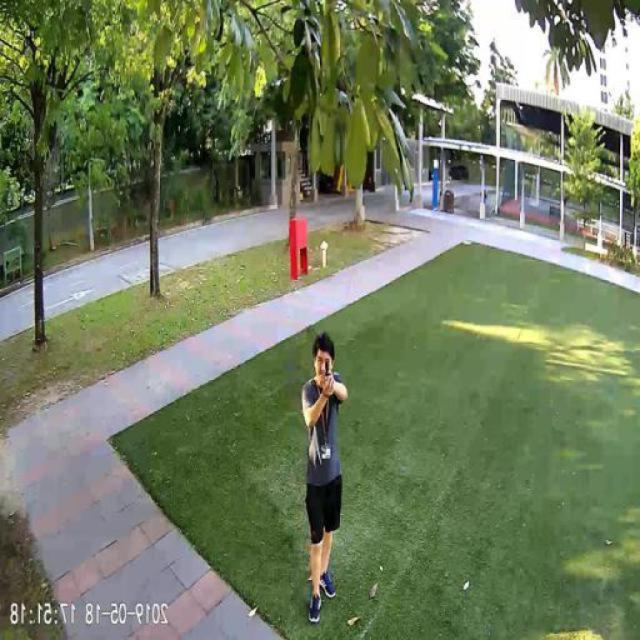pistol: (326, 360, 332, 372)
